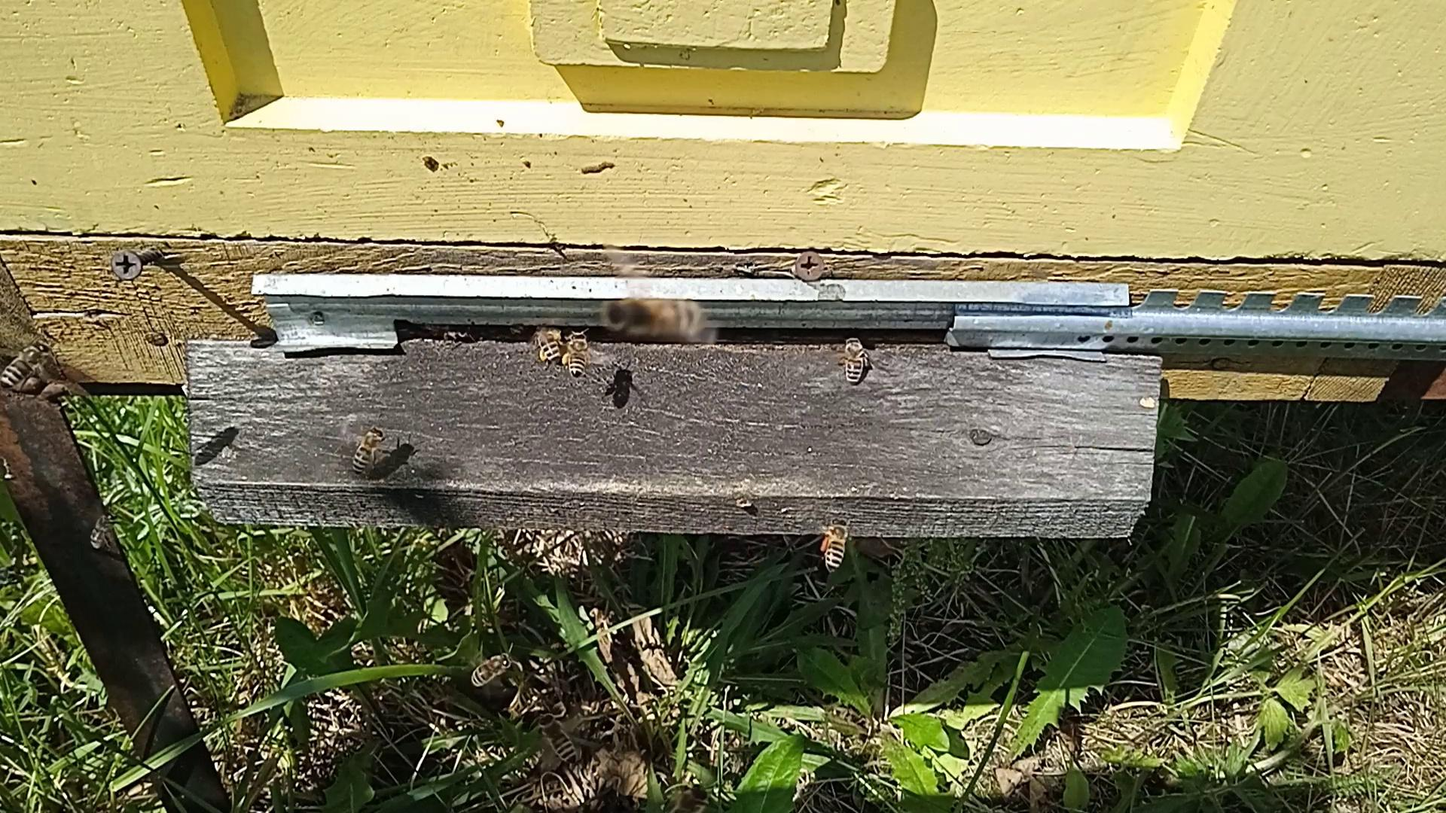worker-bee: (597, 297, 709, 343), (0, 338, 52, 389), (536, 712, 578, 761), (352, 425, 389, 475), (821, 517, 851, 572), (839, 335, 871, 385), (663, 782, 710, 813), (469, 653, 511, 687), (564, 329, 591, 379), (532, 324, 563, 364), (89, 512, 119, 551), (429, 323, 474, 344)
